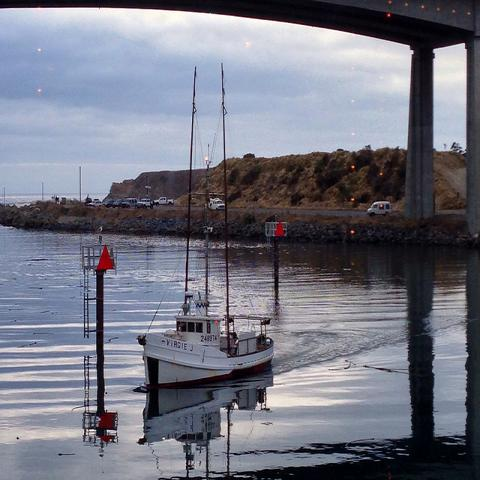car: (366, 202, 391, 217), (121, 198, 138, 208), (113, 198, 122, 208), (88, 200, 102, 206), (102, 201, 114, 208), (88, 197, 92, 203)
truck: (154, 196, 174, 207), (209, 198, 225, 211), (138, 198, 154, 208)
